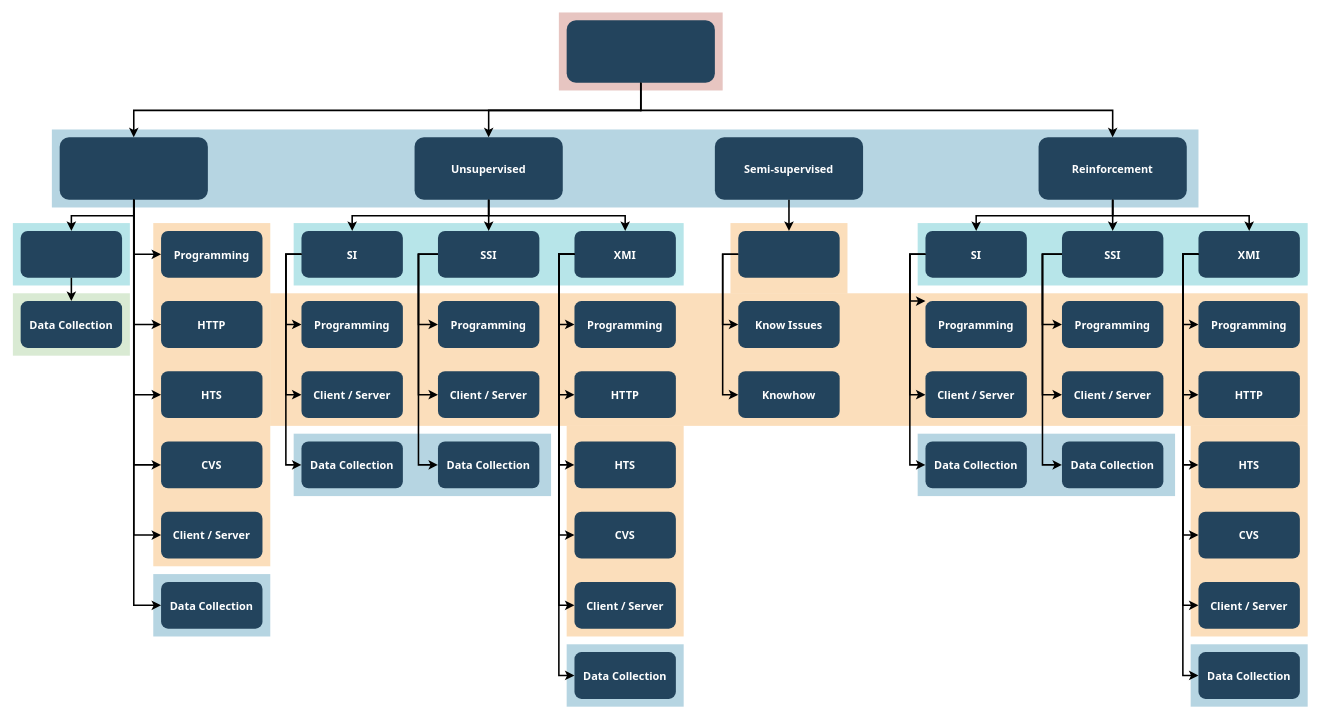
Image size: 1321x719. Some labels were removed from this diagram. The shapes that lost their labels are listed below. From the top down, each one's centre as x and y in pixels, then its label:
the point at 640,51: Machine Learning
the point at 133,168: Supervised
the point at 71,253: Regular Report
the point at 788,253: FAQ
